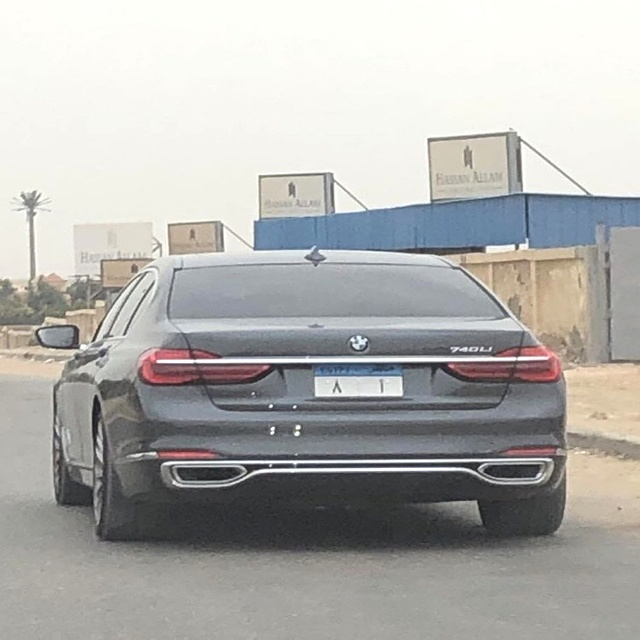License Plate: (311, 364, 406, 400)
